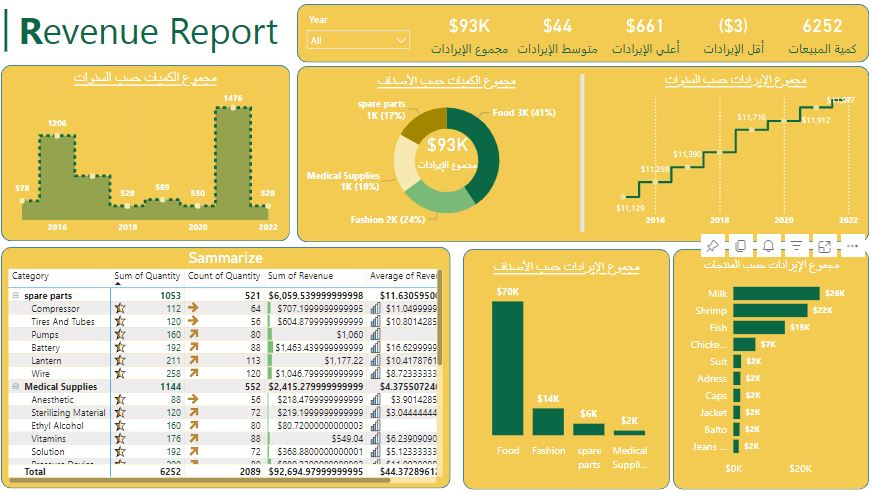

Layout of this report page (visuals, bound fields, positions):
{"tool":"powerbi","page":{"name":"Page 1","canvas":[1280,720],"ordinal":0},"visuals":[{"type":"group","id":"g1","title":"Group 5","box":[439.2,99.1,832.3,256.3],"z":0},{"type":"donutChart","title":"مجموع الكميات حسب الأصناف","fields":{"Category":["Category1.Category"],"Y":["Sum(All Revenue.Quantity)"]},"box":[452.2,110.8,409,230.4],"z":0,"group":"g5"},{"type":"shape","box":[986,365.6,285.1,349.9],"z":0,"group":"g3"},{"type":"shape","box":[439.2,9.1,832.3,85],"z":1000,"group":"g6"},{"type":"shape","box":[8.6,97.9,420.5,256.3],"z":1000,"group":"g4"},{"type":"card","title":"مجموع الايرادات","fields":{"Values":["Sum(All Revenue.Revenue)"]},"box":[605.8,174.6,103.7,92.2],"z":1000,"group":"g5"},{"type":"shape","box":[8.6,362.4,653.8,351.4],"z":1000},{"type":"shape","box":[681.3,365.2,301,349.9],"z":1000,"group":"g2"},{"type":"shape","box":[439.2,99.1,832.3,256.3],"z":2000,"group":"g1"},{"type":"pivotTable","title":"Sammarize","fields":{"Rows":["Category1.Category","Product.Product"],"Values":["Sum(All Revenue.Quantity)1","CountNonNull(All Revenue.Quantity)","Sum(All Revenue.Revenue)","Avg(All Revenue.Revenue)"]},"box":[14.4,365.2,642.2,345.6],"z":2000},{"type":"areaChart","title":"مجموع الكميات حسب السنوات ","fields":{"Y":["Sum(All Revenue.Quantity)"],"Category":["All Revenue.Year.Variation.Date Hierarchy.Year","All Revenue.Year.Variation.Date Hierarchy.Quarter"]},"box":[20.1,105.6,396,247.1],"z":3000,"group":"g4"},{"type":"group","id":"g2","title":"Group 2","box":[681.3,365.2,301,349.9],"z":3000},{"type":"group","id":"g3","title":"Group 3","box":[986,365.6,285.1,349.9],"z":4000},{"type":"columnChart","title":"مجموع الإيرادات حسب الأصناف","fields":{"Category":["Category1.Category"],"Y":["Sum(All Revenue.Revenue)"]},"box":[687.1,381.6,289.4,313.9],"z":4000,"group":"g2"},{"type":"group","id":"g4","title":"Group 4","box":[8.6,97.9,420.5,254.9],"z":5000},{"type":"clusteredBarChart","title":"مجموع الإيرادات حسب  المنتجات","fields":{"Category":["Product.Product"],"Y":["Sum(All Revenue.Revenue)"]},"box":[992.2,379.3,275,326.9],"z":5000,"group":"g3"},{"type":"lineChart","title":"مجموع الإيرادات حسب السنوات","fields":{"Category":["All Revenue.Year.Variation.Date Hierarchy.Year"],"Y":["Sum(All Revenue.Revenue)"]},"box":[894.2,109.4,365.8,231.8],"z":6000},{"type":"group","id":"g5","title":"Group 1","box":[452.2,110.8,409,230.4],"z":7000},{"type":"group","id":"g6","title":"Group 4","box":[439.2,9.1,832.3,85],"z":8000},{"type":"card","fields":{"Values":["Sum(All Revenue.Revenue)"]},"box":[622.4,11.5,135.4,77.8],"z":9000},{"type":"card","fields":{"Values":["Avg(All Revenue.Revenue)"]},"box":[750.7,11.5,135.4,77.8],"z":10000},{"type":"card","fields":{"Values":["Max(All Revenue.Revenue)"]},"box":[878.9,11.5,135.4,77.8],"z":11000},{"type":"card","fields":{"Values":["Min(All Revenue.Revenue)"]},"box":[1007.2,11.5,135.4,77.8],"z":12000},{"type":"card","fields":{"Values":["Sum(All Revenue.Quantity)"]},"box":[1135.4,11.5,135.4,77.8],"z":12001},{"type":"slicer","fields":{"Values":["All Revenue.Year.Variation.Date Hierarchy.Year"]},"box":[443.5,18.7,169.9,61.9],"z":12002},{"type":"textbox","box":[28.8,4.3,396,89.3],"z":12003},{"type":"shape","box":[0,15.8,31.7,61.9],"z":12004},{"type":"shape","box":[769,110.9,169.9,230.4],"z":12005}]}

Visuals, with their boxes in screenshot pixels (x1, y1, x2, y2), scaled from the page's 1280x720 canvas onto the 872x493 screenshot:
"Group 5" group: (299,68,866,243)
"مجموع الكميات حسب الأصناف" donutChart: (308,76,587,234)
shape: (672,250,866,490)
shape: (299,6,866,64)
shape: (6,67,292,243)
"مجموع الايرادات" card: (413,120,483,183)
shape: (6,248,451,489)
shape: (464,250,669,490)
shape: (299,68,866,243)
"Sammarize" pivotTable: (10,250,447,487)
"مجموع الكميات حسب السنوات " areaChart: (14,72,283,242)
"Group 2" group: (464,250,669,490)
"Group 3" group: (672,250,866,490)
"مجموع الإيرادات حسب الأصناف" columnChart: (468,261,665,476)
"Group 4" group: (6,67,292,242)
"مجموع الإيرادات حسب  المنتجات" clusteredBarChart: (676,260,863,484)
"مجموع الإيرادات حسب السنوات" lineChart: (609,75,858,234)
"Group 1" group: (308,76,587,234)
"Group 4" group: (299,6,866,64)
card - Sum(All Revenue.Revenue): (424,8,516,61)
card - Avg(All Revenue.Revenue): (511,8,604,61)
card - Max(All Revenue.Revenue): (599,8,691,61)
card - Min(All Revenue.Revenue): (686,8,778,61)
card - Sum(All Revenue.Quantity): (773,8,866,61)
slicer - All Revenue.Year.Variation.Date Hierarchy.Year: (302,13,418,55)
textbox: (20,3,289,64)
shape: (0,11,22,53)
shape: (524,76,640,234)
